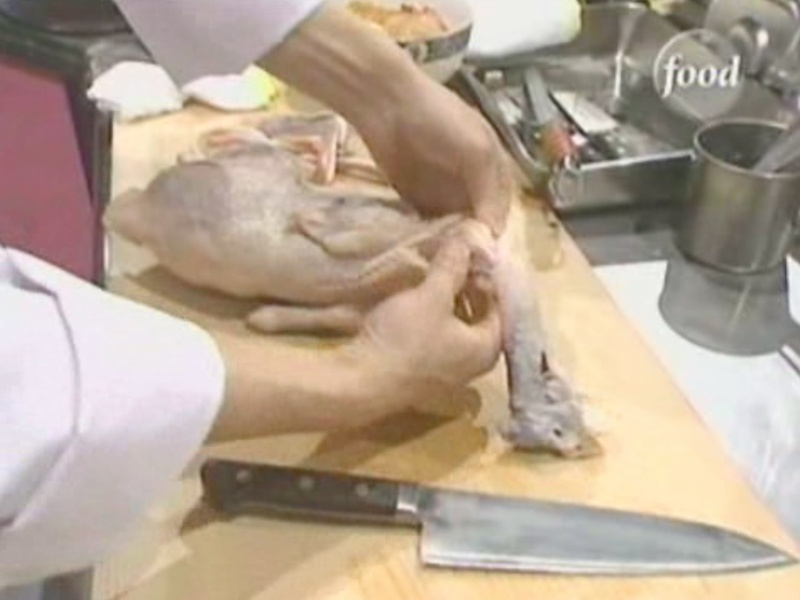knife: (194, 452, 799, 583), (540, 69, 648, 169)
